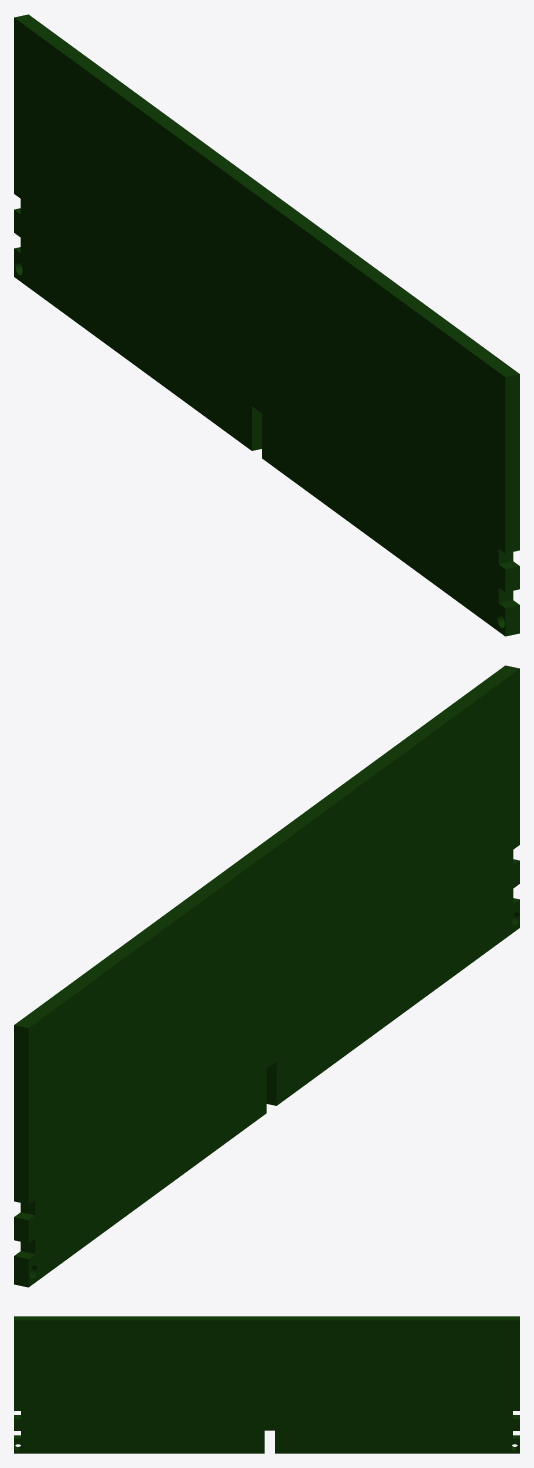
Rendered from ram.FBX.
The picture shows the model from 3 angles, top to bottom: view 1: azimuth 30°, elevation 25°; view 2: azimuth 150°, elevation 25°; view 3: azimuth 270°, elevation 25°; orthographic projection. The views are drawn at different scales.
Parts seen in each view (by area): view 1: Box284; view 2: Box284; view 3: Box284.
Part boxes in pixels (x1,y1,x2,y2): Box284: (14, 14, 519, 636); Box284: (14, 665, 519, 1287); Box284: (14, 1316, 519, 1453).
Size of the model in its own units: 1.11 by 18.82 by 64.51.
